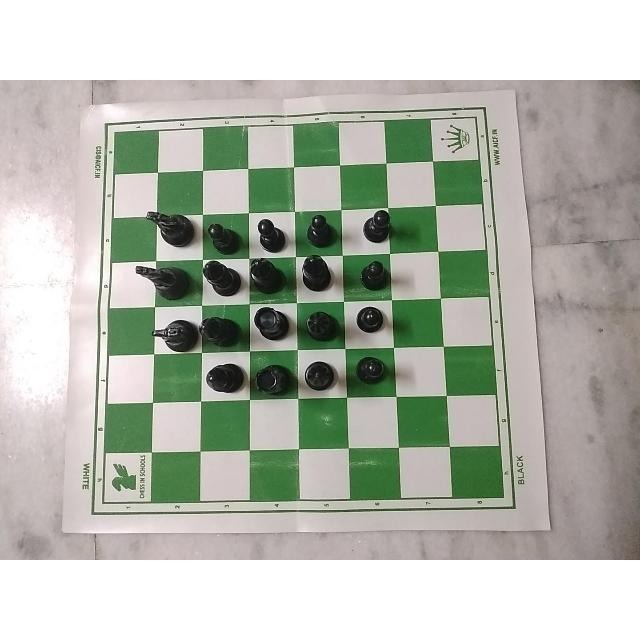black-bishop: (295, 252, 342, 294), (202, 356, 244, 398), (250, 255, 290, 299), (200, 310, 242, 350), (251, 358, 293, 396), (199, 262, 243, 298), (302, 306, 339, 342)
black-knight: (133, 260, 197, 303), (149, 310, 197, 354), (144, 208, 196, 244)
black-pawn: (252, 215, 296, 255), (299, 213, 344, 249), (352, 355, 388, 393), (355, 306, 393, 342), (205, 217, 245, 251), (356, 259, 392, 295), (362, 205, 394, 244)
black-rook: (253, 360, 296, 396), (252, 306, 290, 342)
